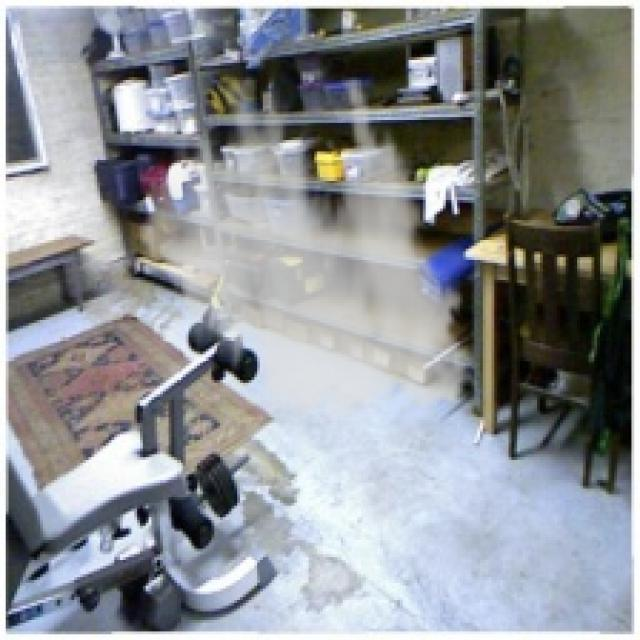Smoke: (128, 77, 488, 437)
